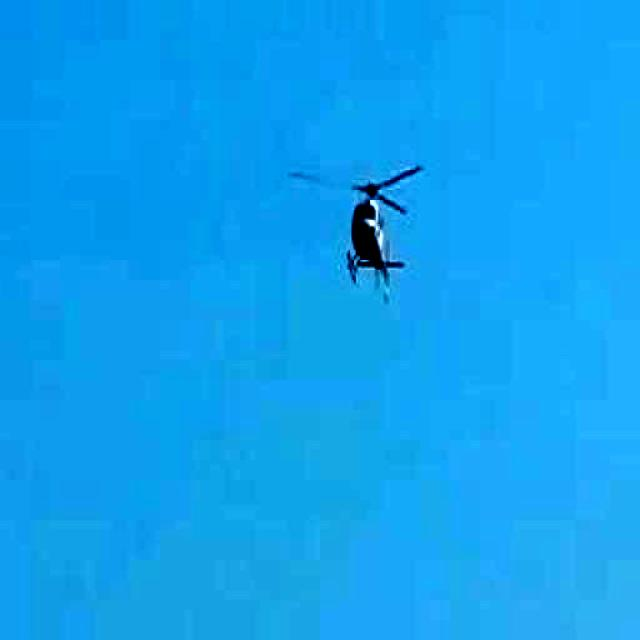drone: (292, 146, 446, 322)
